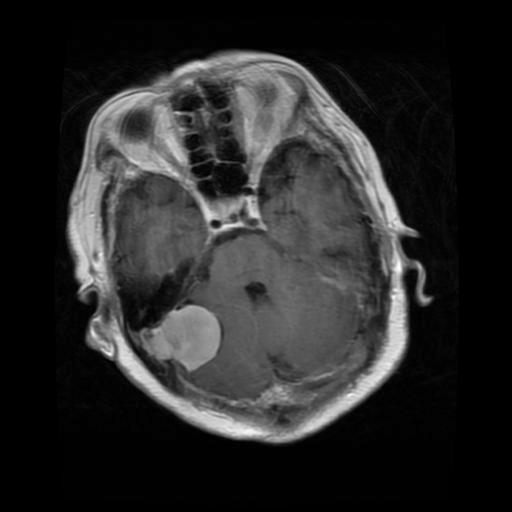Tumour-Meningioma: (117, 294, 254, 388)
